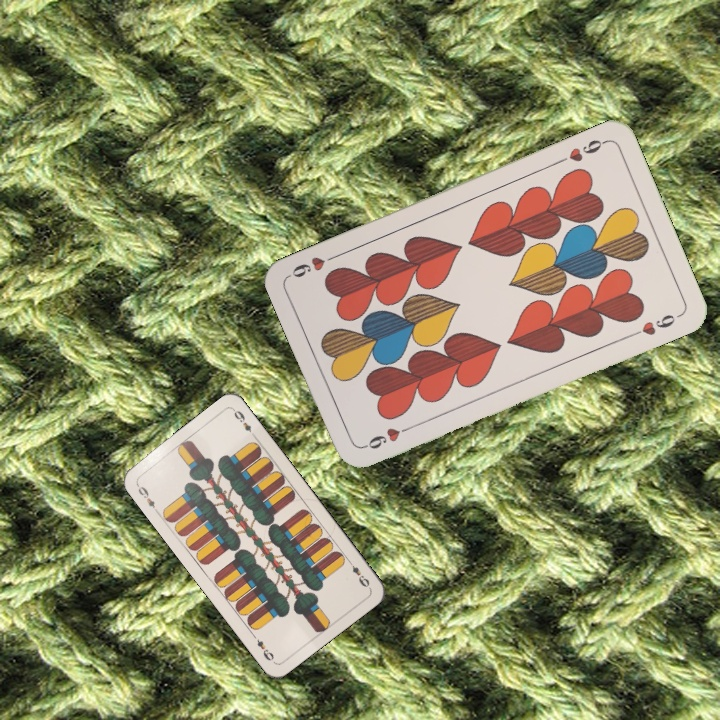E9: (133, 480, 161, 515), (344, 556, 372, 590)
H9: (554, 135, 610, 167), (359, 421, 416, 452)
